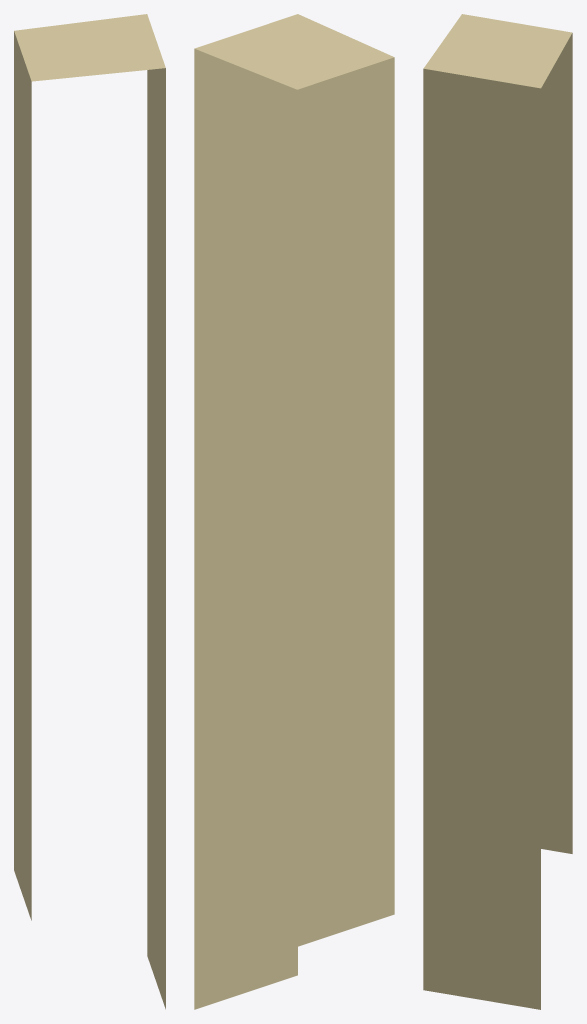
The model's file is wall30.fbx.
3 views of the same model, side by side, from view 1: azimuth 30°, elevation 25°; view 2: azimuth 150°, elevation 25°; view 3: azimuth 270°, elevation 25° (orthographic). The views are drawn at different scales.
Visible parts, largest first — view 1: duvar.006; view 2: duvar.006; view 3: duvar.006.
Boxes of the visible parts, x1,y1,x2,y2 form: duvar.006: (14, 14, 165, 1009); duvar.006: (194, 14, 394, 1009); duvar.006: (423, 14, 572, 1009).
Bounding box in the file's own units: 7.8 × 44.99 × 6.6.
